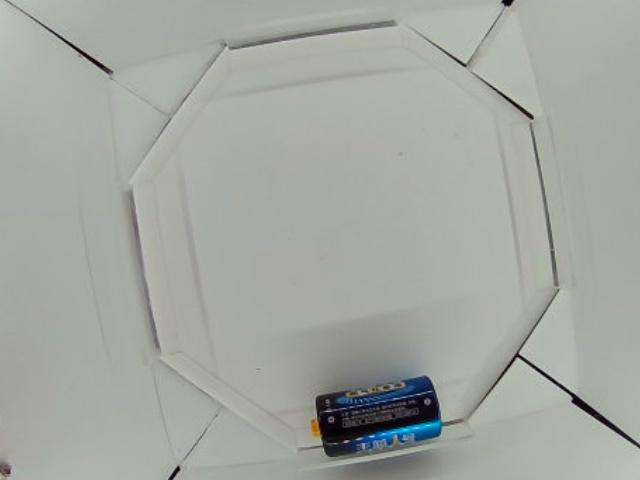Battery: (312, 378, 442, 459)
